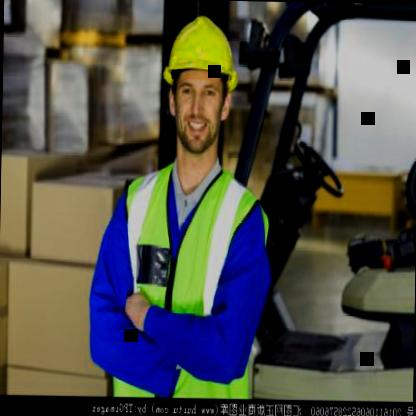helmet: (155, 0, 240, 164)
